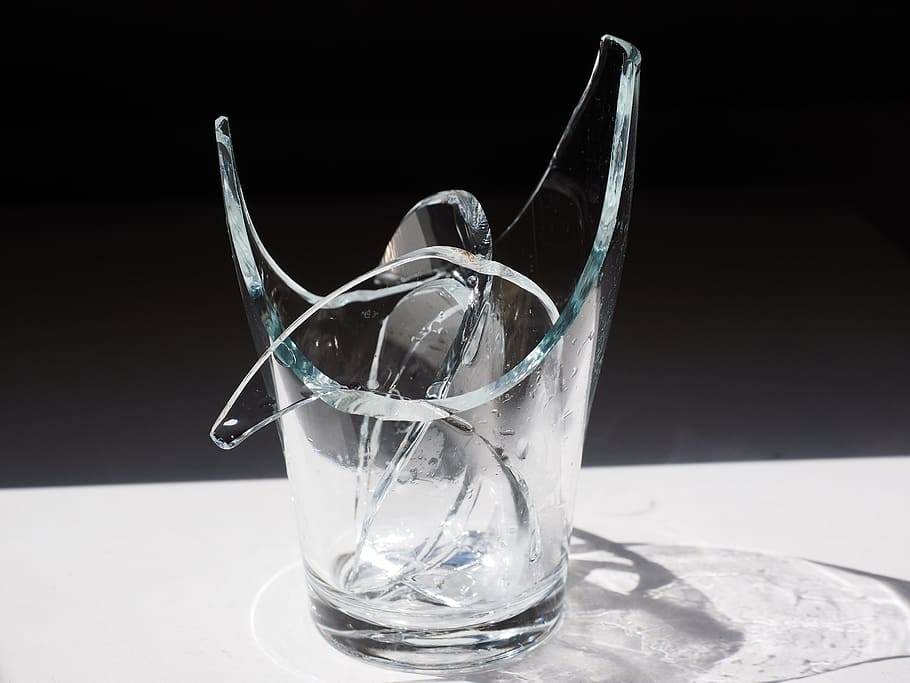glass: (199, 234, 602, 470), (339, 368, 544, 610), (347, 174, 533, 306)
